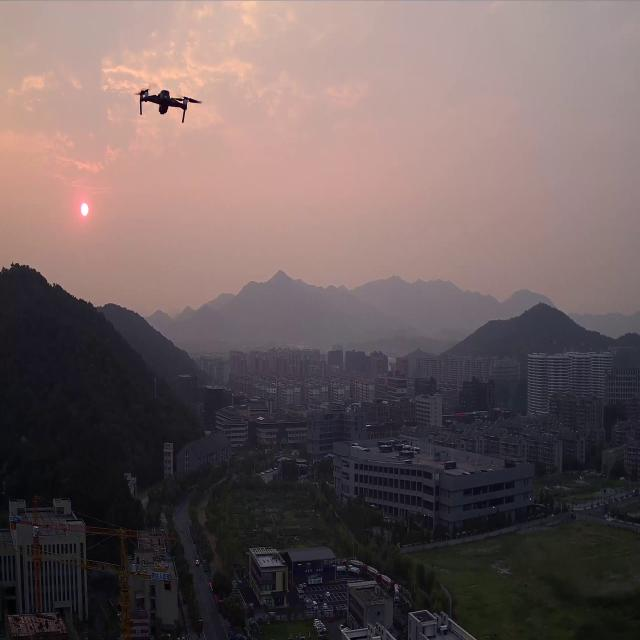UAV: (133, 88, 205, 124)
